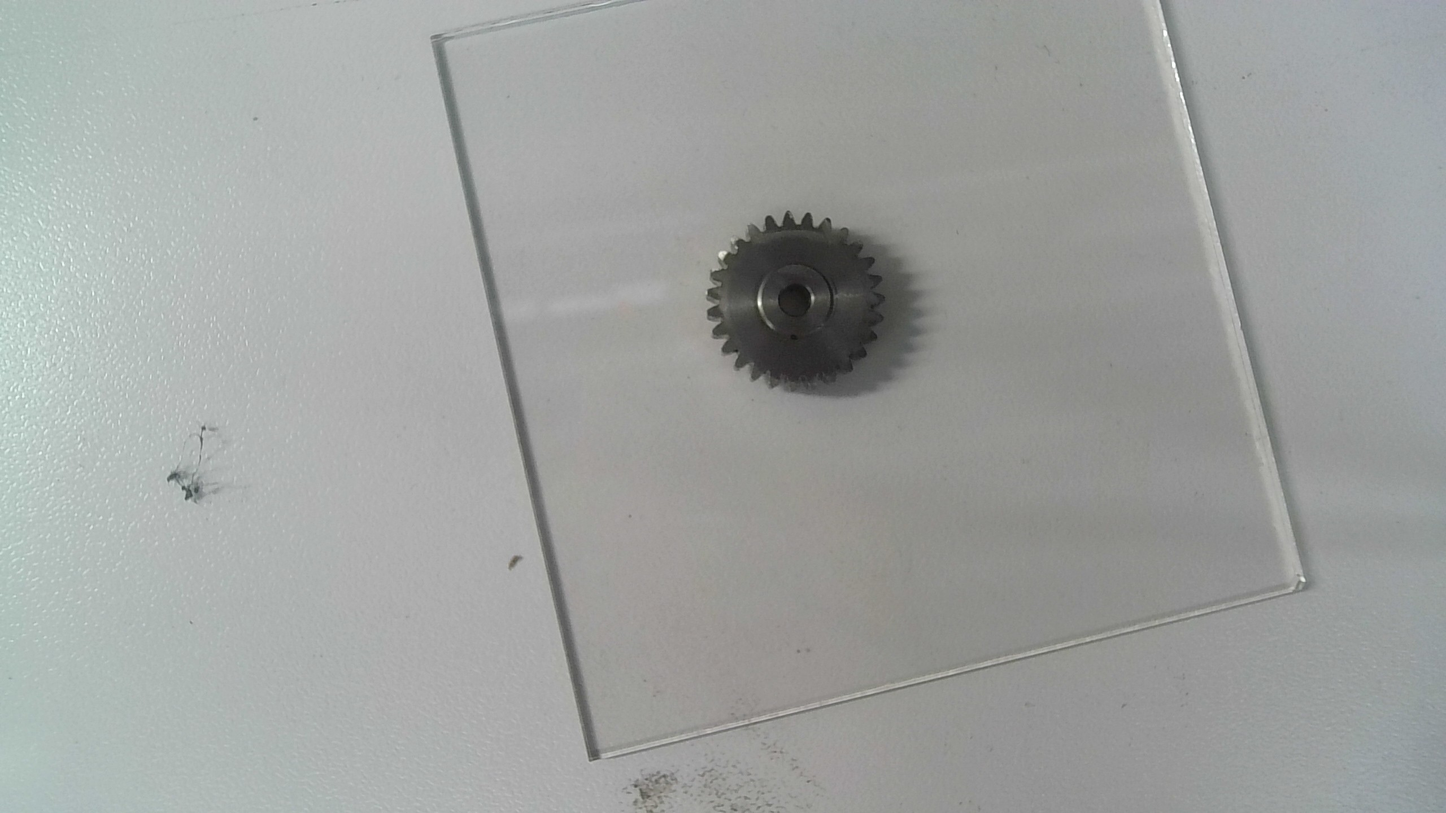gear: (703, 207, 890, 396)
